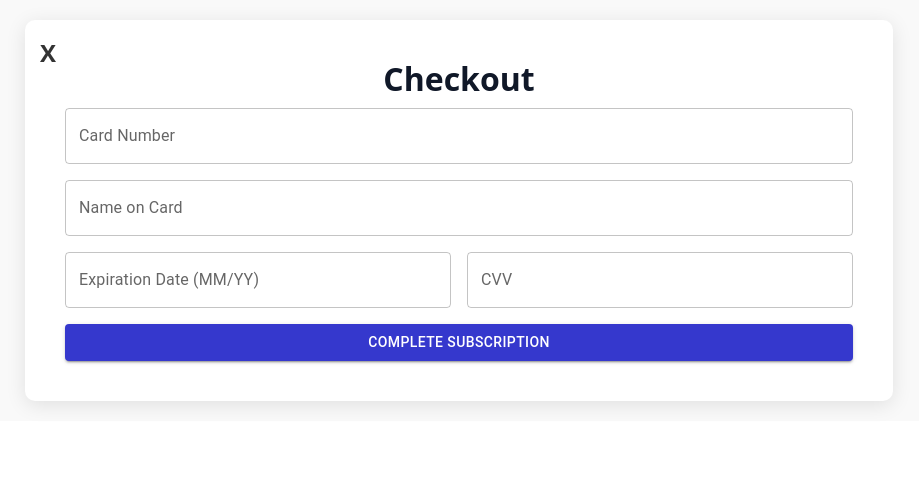
Test case: CheckoutForm Component › shows error messages for invalid input
Click the button "Complete Subscription". click: (459,343)
box: x1=65 y1=324 x2=853 y2=361
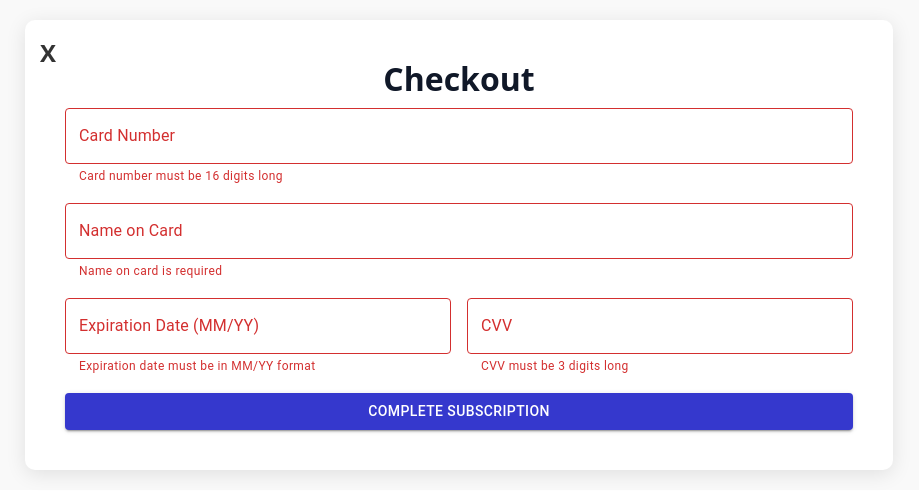
Expected: the text "Card number must be 16 digits long" is shown, x1=79 y1=169 x2=283 y2=183
Expected: the text "Name on card is required" is shown, x1=79 y1=264 x2=222 y2=278
Expected: the text "Expiration date must be in MM/YY format" is shown, x1=79 y1=359 x2=316 y2=373
